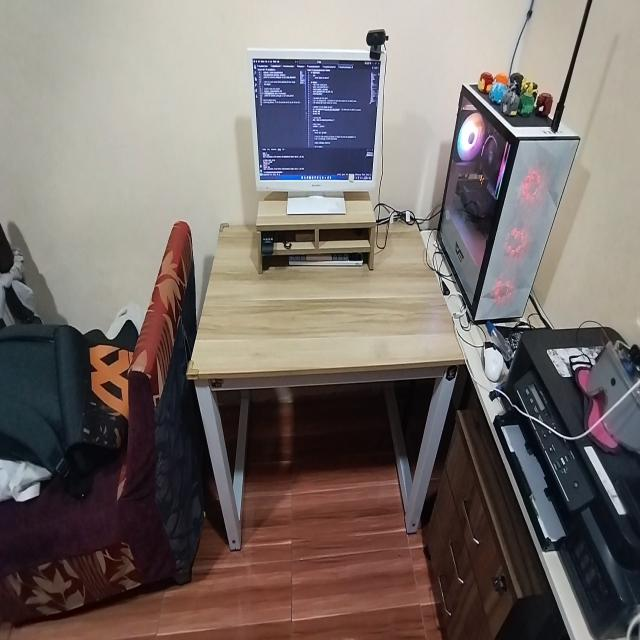table: (181, 209, 465, 538)
